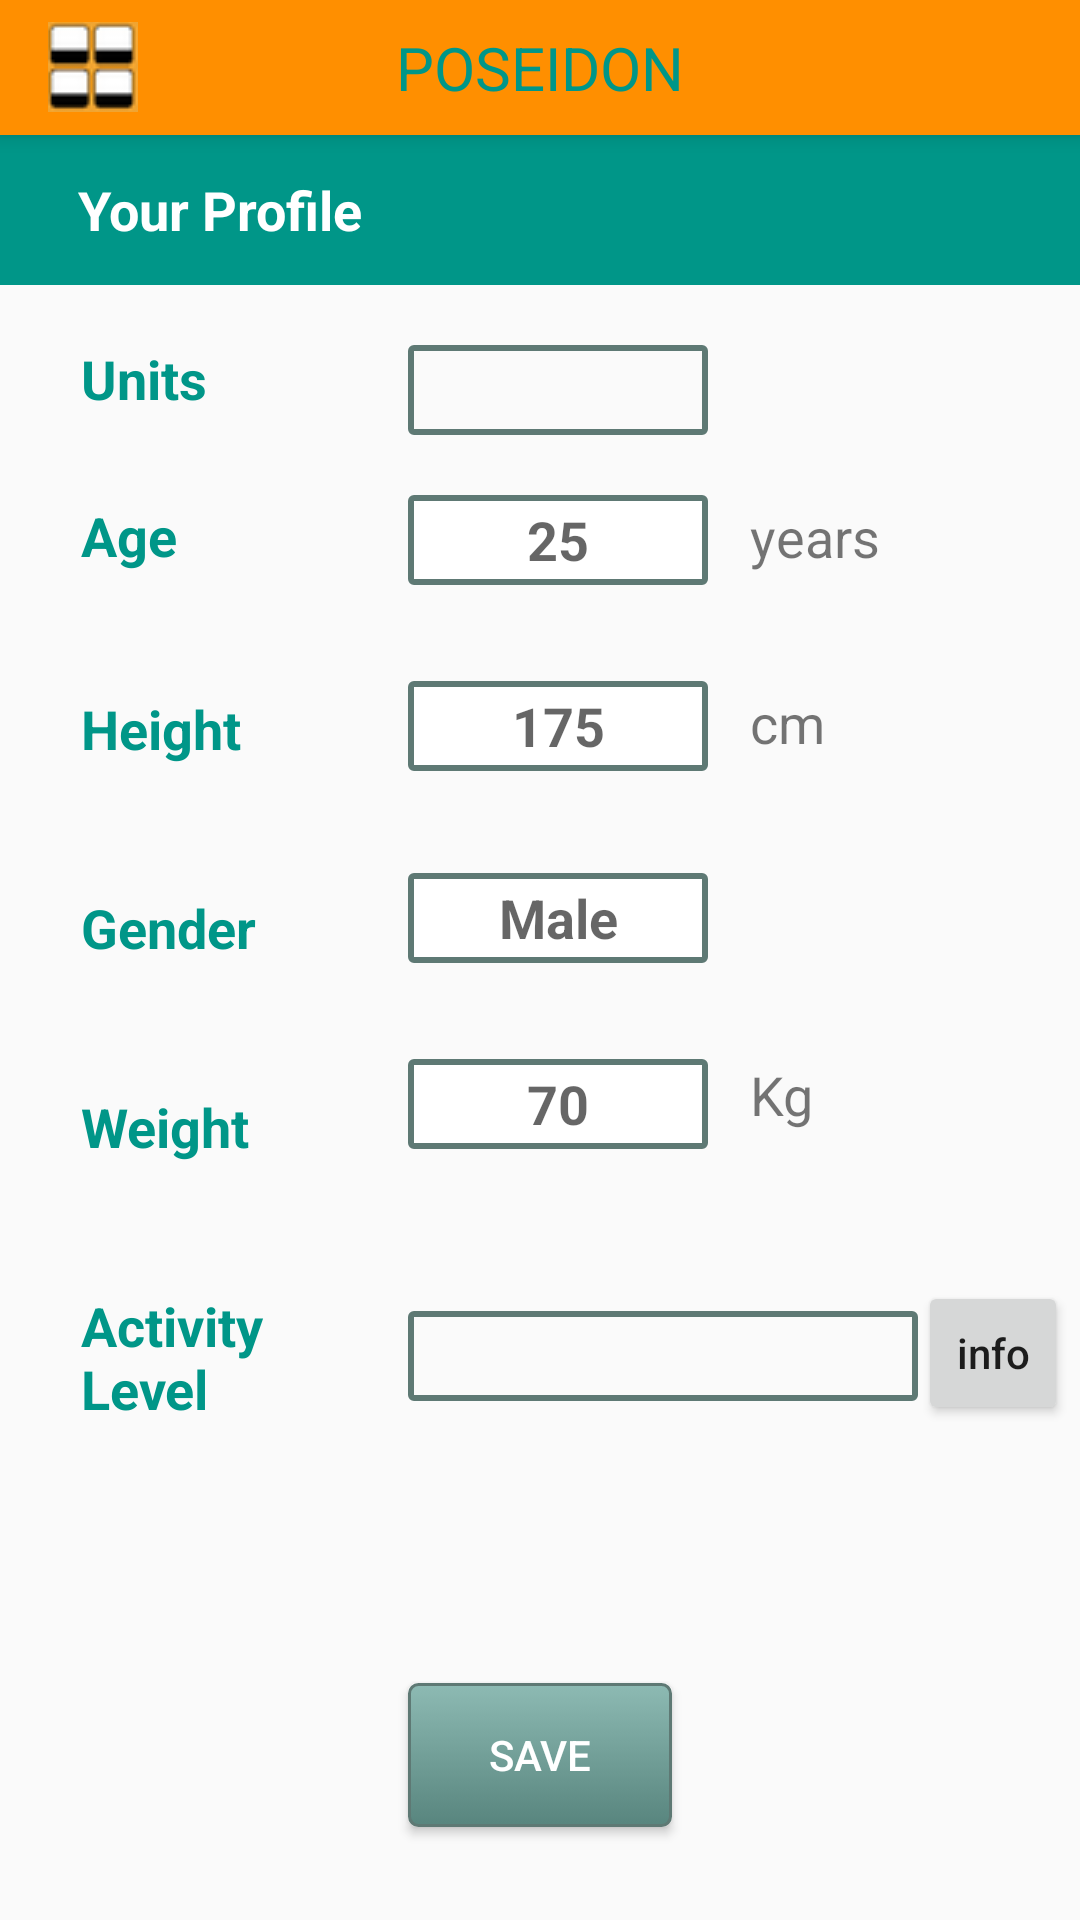

Icon click points for this 1080 x 1920 phone screenshot, format (x=x, y=y):
homebutton: (x=93, y=67)
